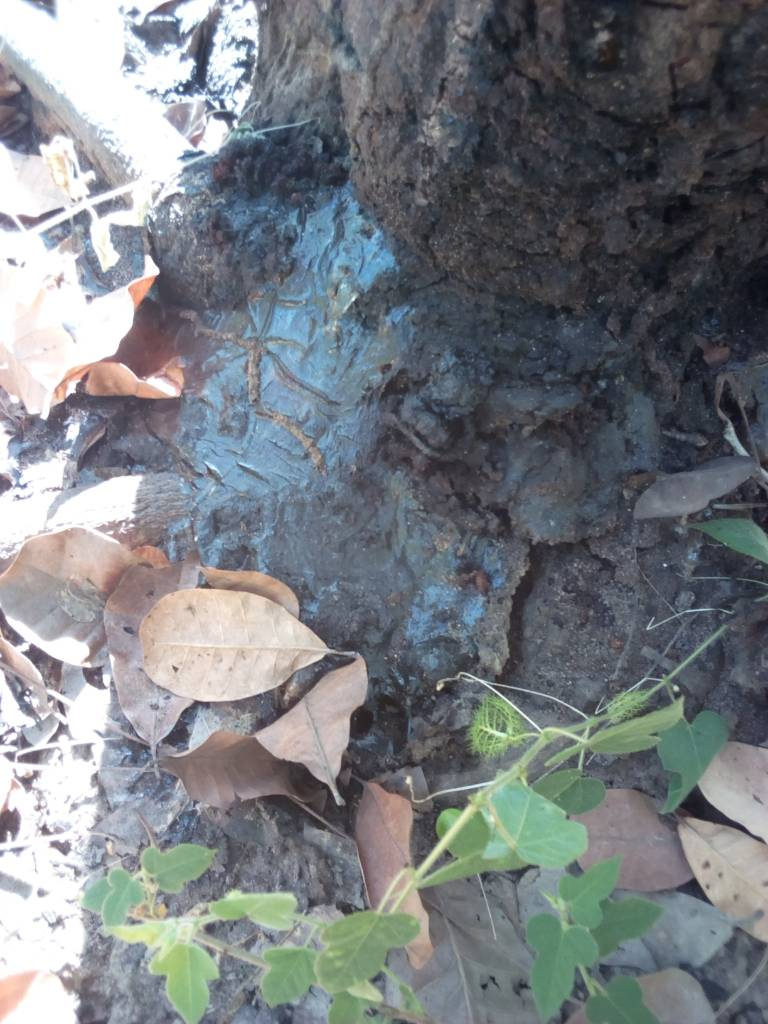Gommose: (193, 114, 632, 546)
